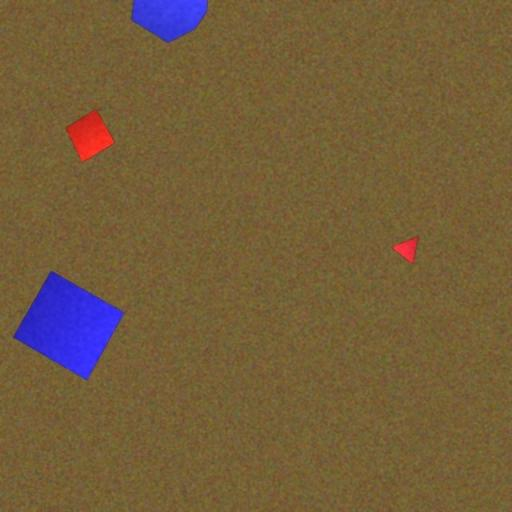BLUE_SQUARE: (13, 270, 125, 381)
RED_SQUARE: (65, 108, 116, 163)
